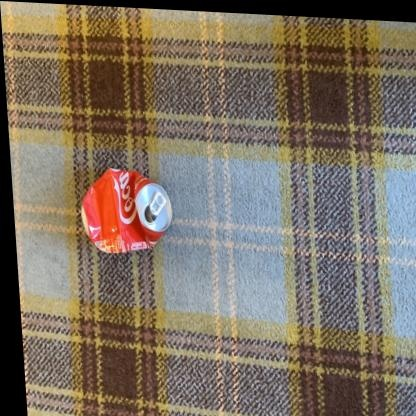trash: (81, 168, 172, 252)
